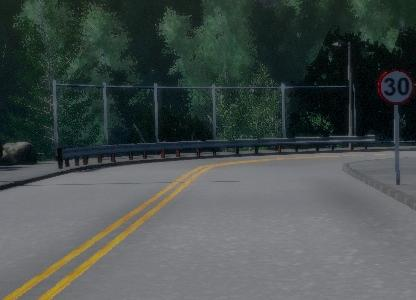Speed_30: (375, 69, 416, 107)
